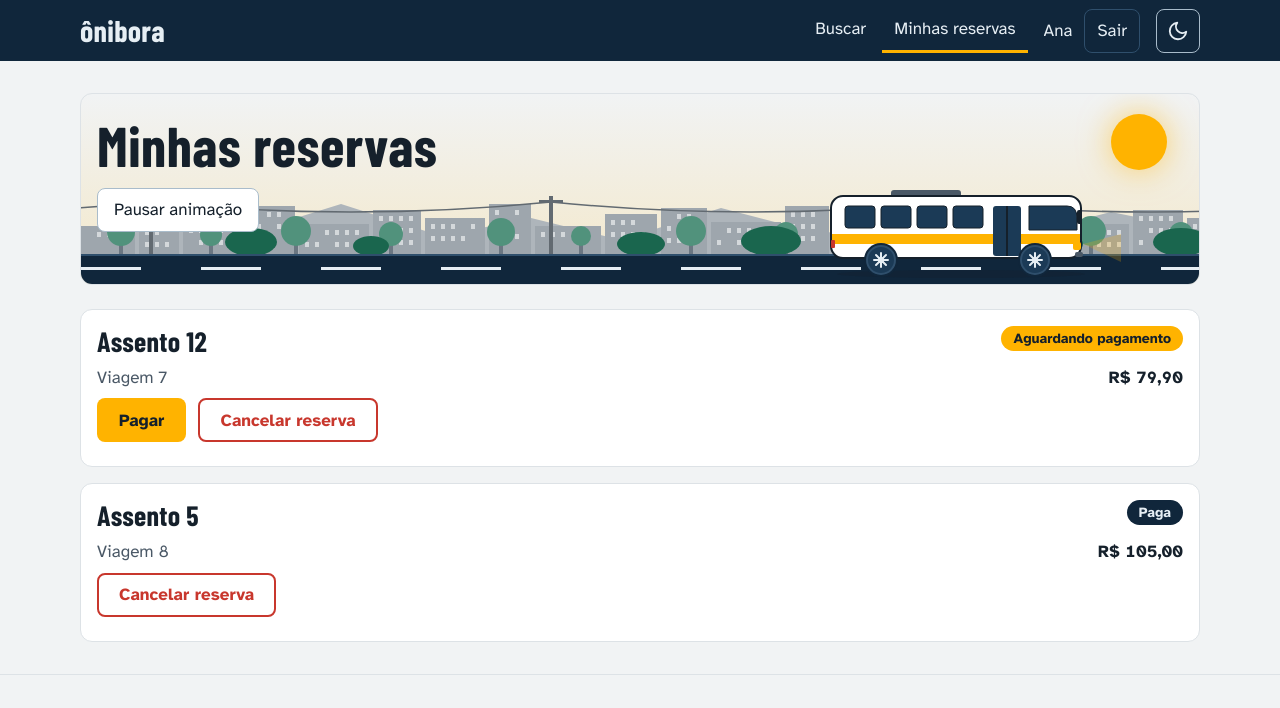
Test: MyReservationsPage: cancelar › um 409 mostra a mensagem da API na linha e deixa tentar de novo
Step 1. Click the 2nd button "Cancelar reserva" → (187, 595), box [97,573,276,617]
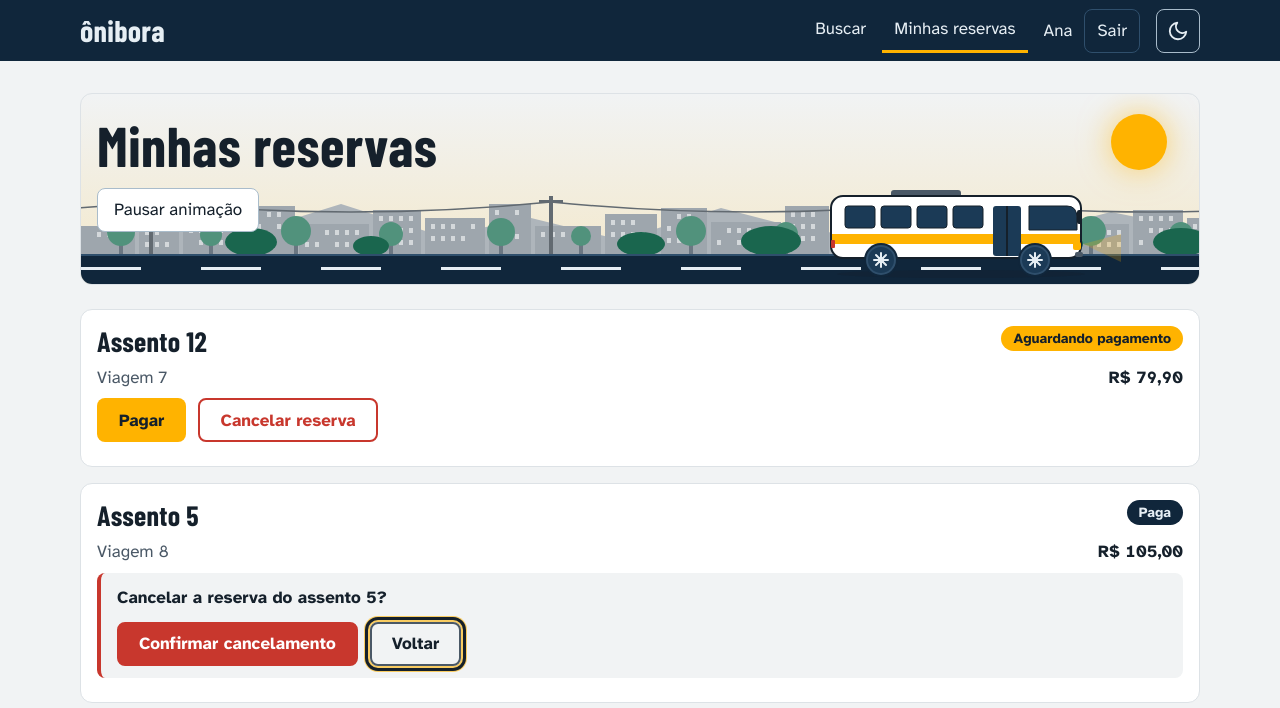
Step 2. Click the button "Confirmar cancelamento" → (237, 644), box [117,622,358,666]
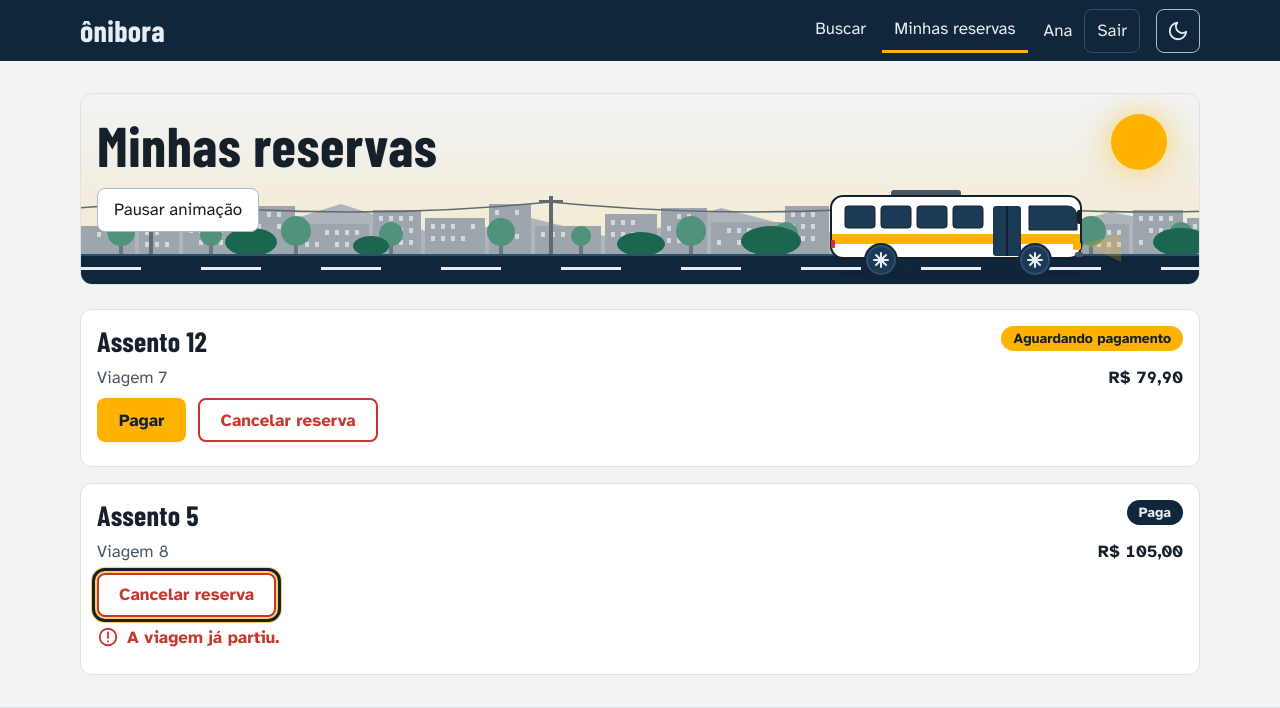
Now the message reads "A viagem já partiu.", box [127,627,279,648]
Now the 2nd button "Cancelar reserva" is enabled, box [97,573,276,617]
Now the button "Confirmar cancelamento" is gone
